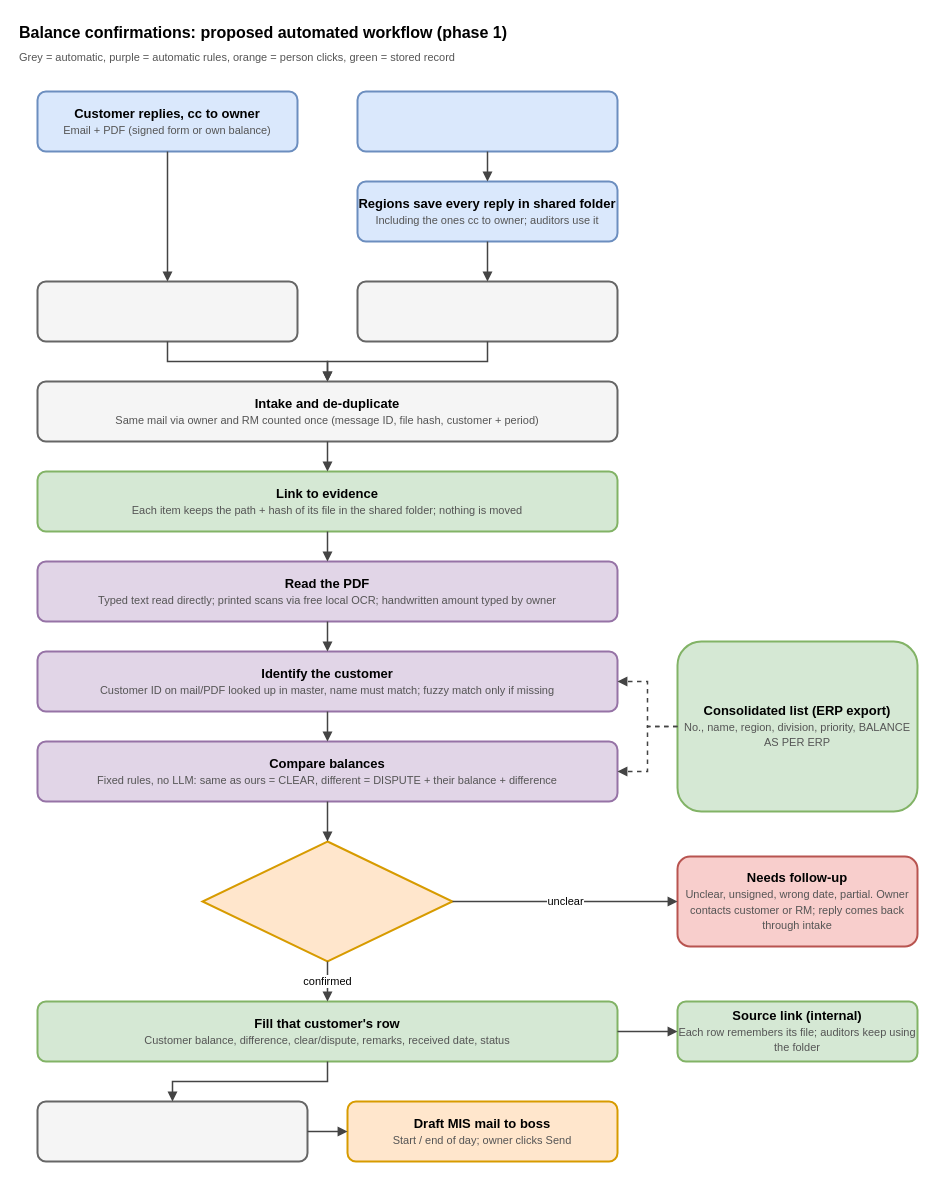
This 935x1179 diagram has some shape labels left out. Here are the shapes that lost their labels. From the top down, the centre of each, then its label:
At pixel 487 121: "Customer replies only to regional manager Owner not copied".
At pixel 167 311: "Mailbox connector (optional) Cross-check: flags mails not yet in the folder".
At pixel 487 311: "Shared-folder watcher (main source) Regions already save every reply here".
At pixel 327 901: "Owner reviews every item Confirm / edit / follow up".
At pixel 172 1131: "Recount MIS Region x division: total, P1/P2/P3, received, pending, % achievement".
